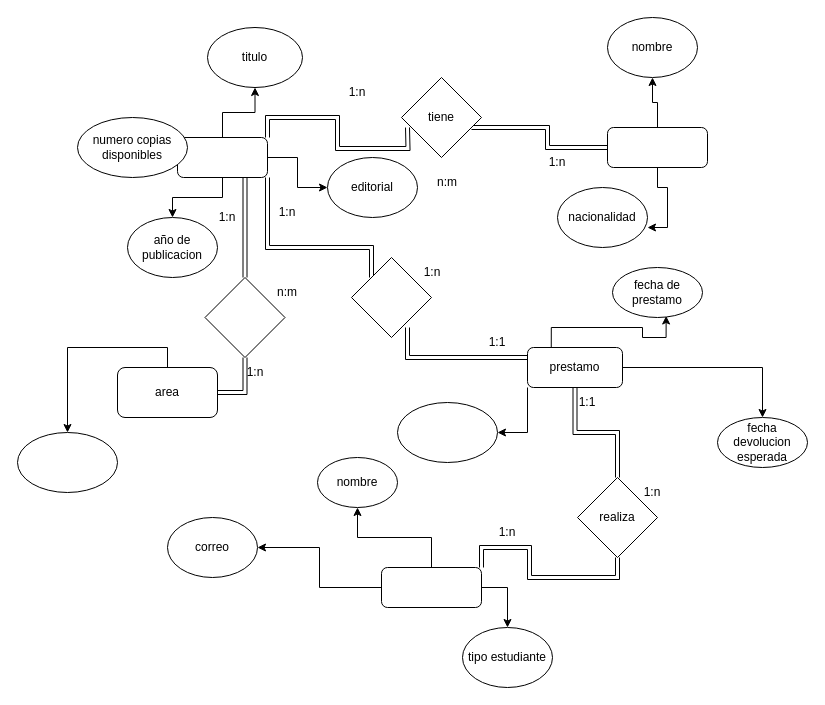
Some shapes in this 825 by 705 pixel diagram are drawn without their labels. The shapes that lost their labels are listed below. From the top down, each one's centre as x and y in pixels, then its label:
At point (222, 157): "libro".
At point (657, 147): "autor".
At point (244, 317): "pertenece a".
At point (391, 297): "se presta".
At point (447, 432): "fecha devolucion real".
At point (67, 462): "nombre de area".
At point (431, 587): "usuario".
